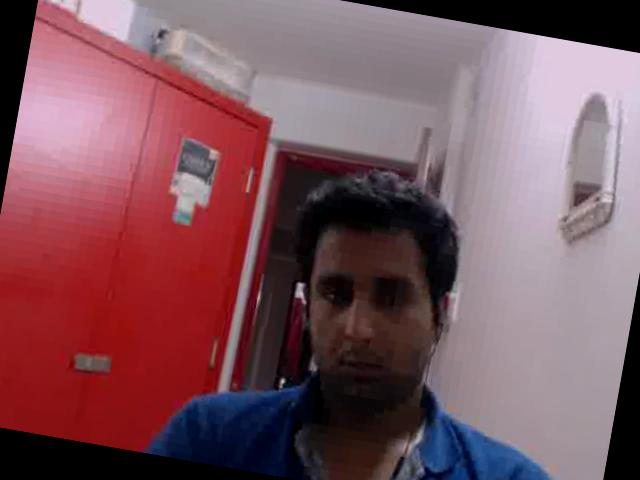bosan: (288, 227, 442, 408)
